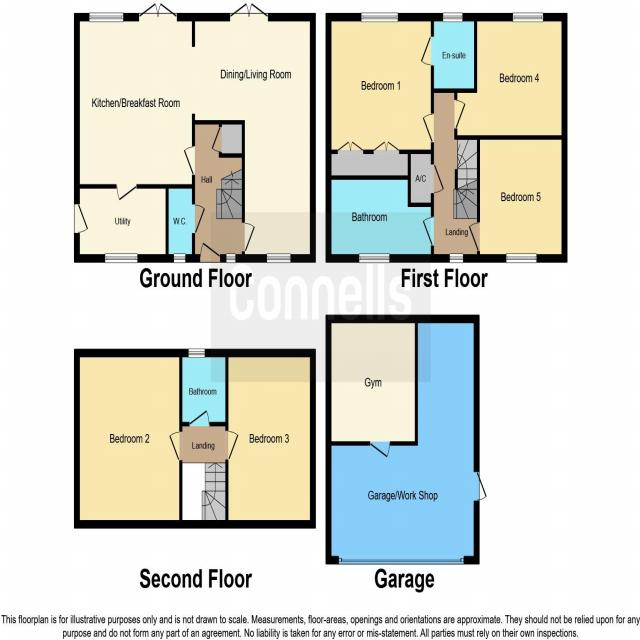DOOR: (164, 426, 183, 467), (74, 196, 90, 235), (242, 218, 257, 255), (191, 201, 206, 236), (198, 240, 221, 262), (420, 34, 435, 67), (225, 429, 240, 461), (115, 183, 139, 203), (431, 163, 445, 195), (421, 215, 434, 246), (454, 98, 467, 129), (421, 112, 434, 142), (189, 409, 210, 427), (183, 144, 195, 174), (211, 125, 222, 153)
DOUBLE DOOR: (228, 1, 271, 23), (137, 0, 178, 22)
ROOM: (74, 0, 316, 263), (74, 349, 183, 529), (225, 348, 316, 529), (325, 12, 434, 154), (325, 138, 447, 263), (454, 12, 568, 140), (467, 134, 567, 264)
WINDOW: (360, 11, 399, 24), (88, 11, 125, 24), (358, 250, 390, 265), (505, 251, 538, 265), (468, 220, 481, 252), (104, 252, 138, 264), (265, 251, 292, 266), (512, 12, 544, 23), (442, 11, 464, 23), (187, 348, 205, 359), (449, 251, 464, 264), (173, 253, 186, 264), (226, 253, 236, 264)
